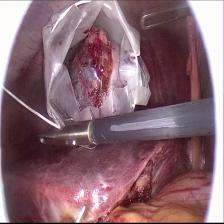Grasper: (31, 123, 98, 151), (138, 2, 191, 31)
Specimen Bag: (41, 0, 150, 120)
